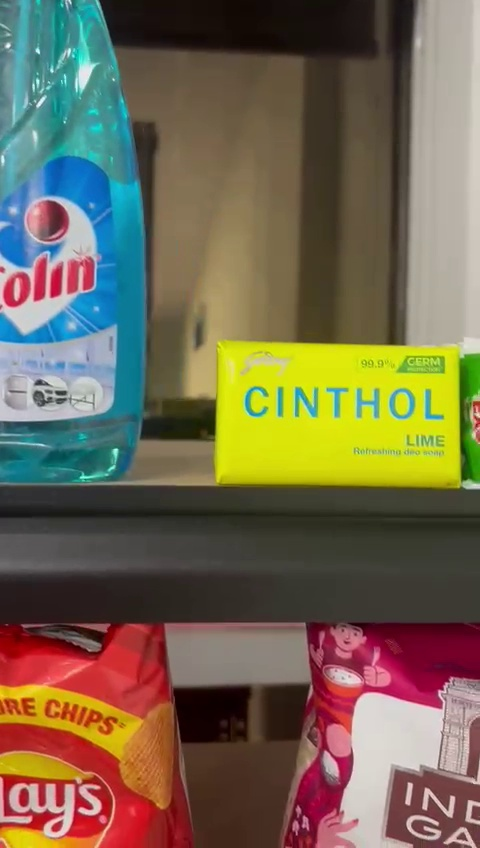Cinthol: (214, 339, 459, 481)
